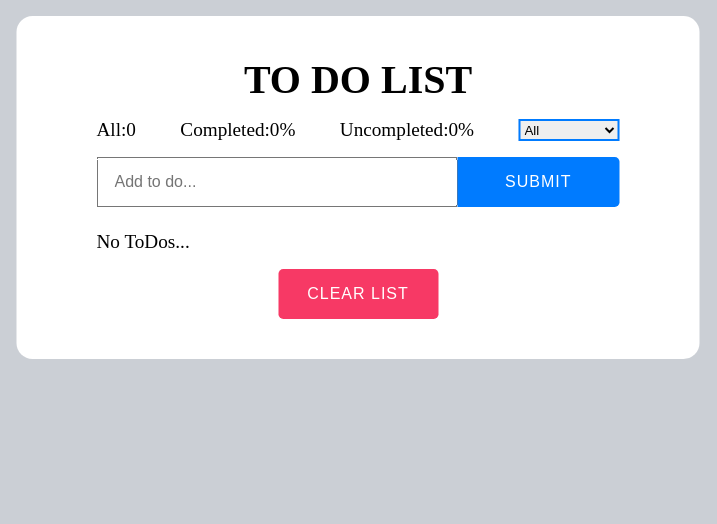
to-do list › filter uncompleted to-dos and back to all items
Step 1. Type "to-do item 1" into the field with placeholder "Add to do..." → x=277, y=182, box [96,157,457,207]
Step 2. Click the button "submit" → x=538, y=182, box [457,157,620,207]
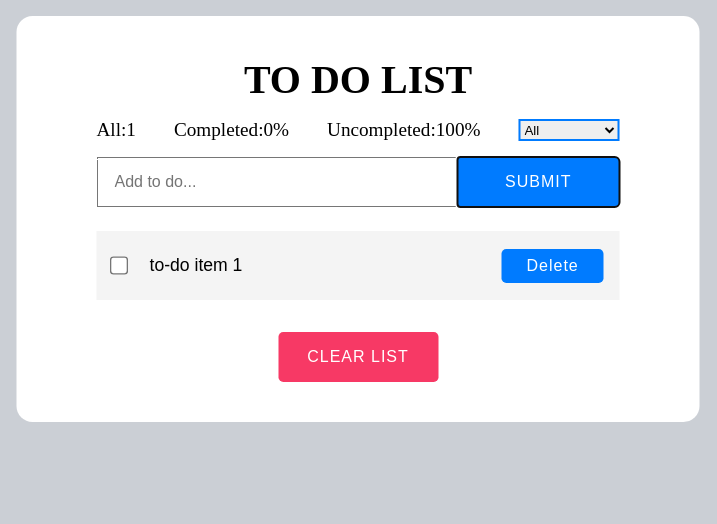
Step 3. Type "to-do item 2" into the field with placeholder "Add to do..." → x=277, y=182, box [96,157,457,207]
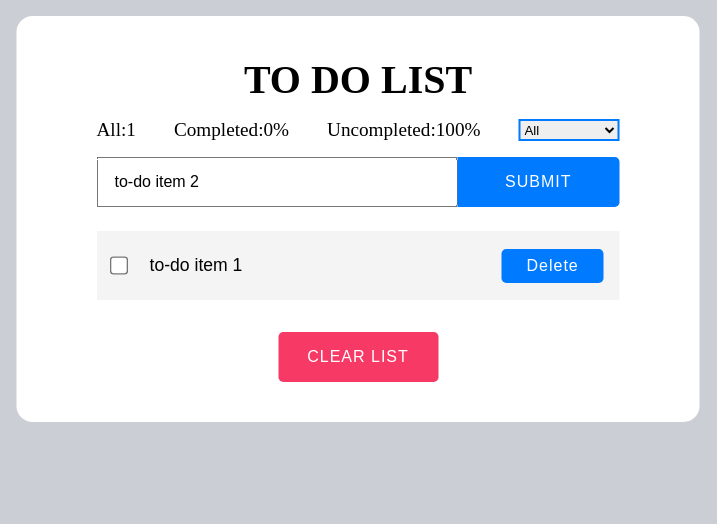
Step 4. Click the button "submit" → x=538, y=182, box [457,157,620,207]
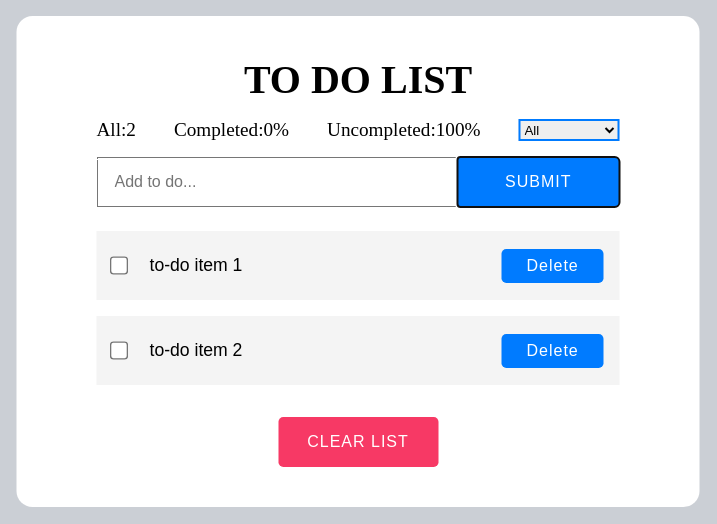
Step 5. Click the 1st checkbox → x=119, y=266, box [110,256,128,275]
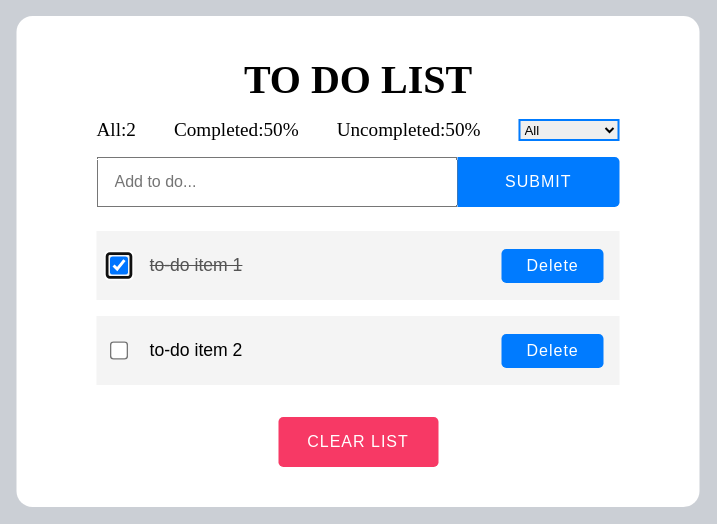
Step 6. Select "uncompleted" in the dropdown → x=569, y=130, box [518,119,620,141]
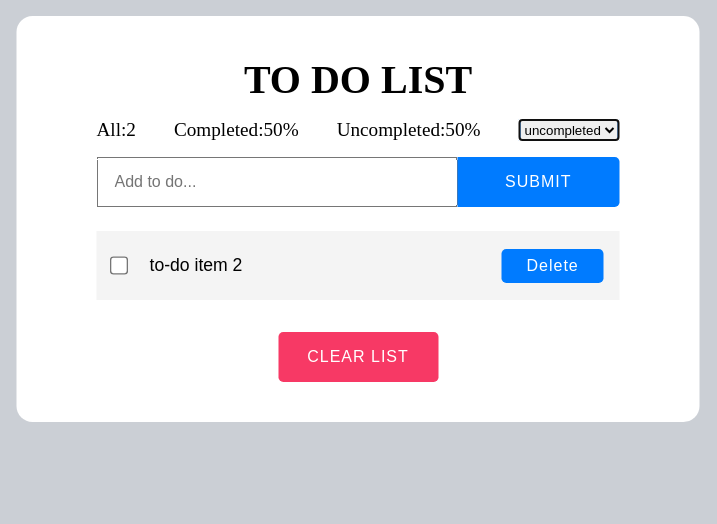
expect the checkbox is not checked: met, box [110,256,128,275]
expect the field showing "to-do item 2" is enabled: met, box [134,247,502,284]
expect the number of list items is 1: met, box [96,231,620,300]
Step 7. Select "All" in the dropdown → x=569, y=130, box [518,119,620,141]
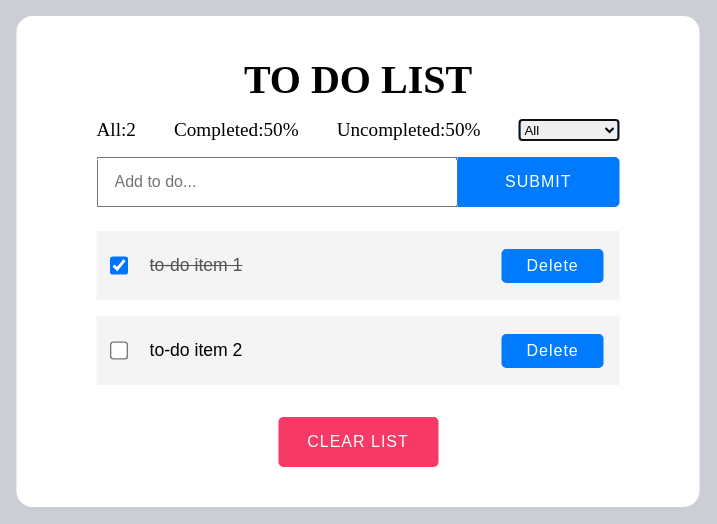
expect the number of list items is 2: met, box [96,231,620,300]; [96,316,620,385]
